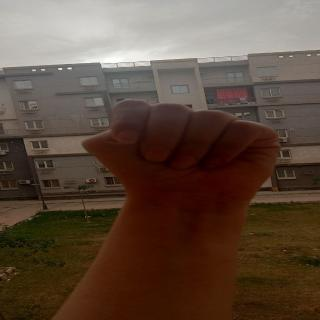SAD: (78, 92, 307, 198)
